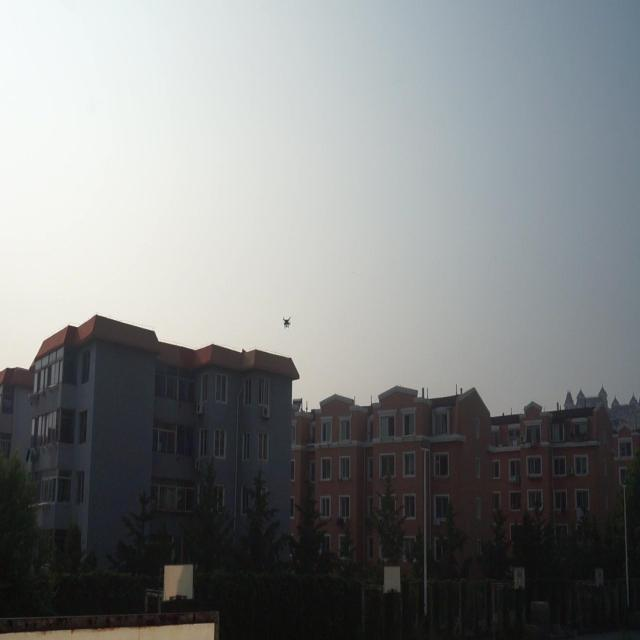drone: (279, 314, 295, 331)
